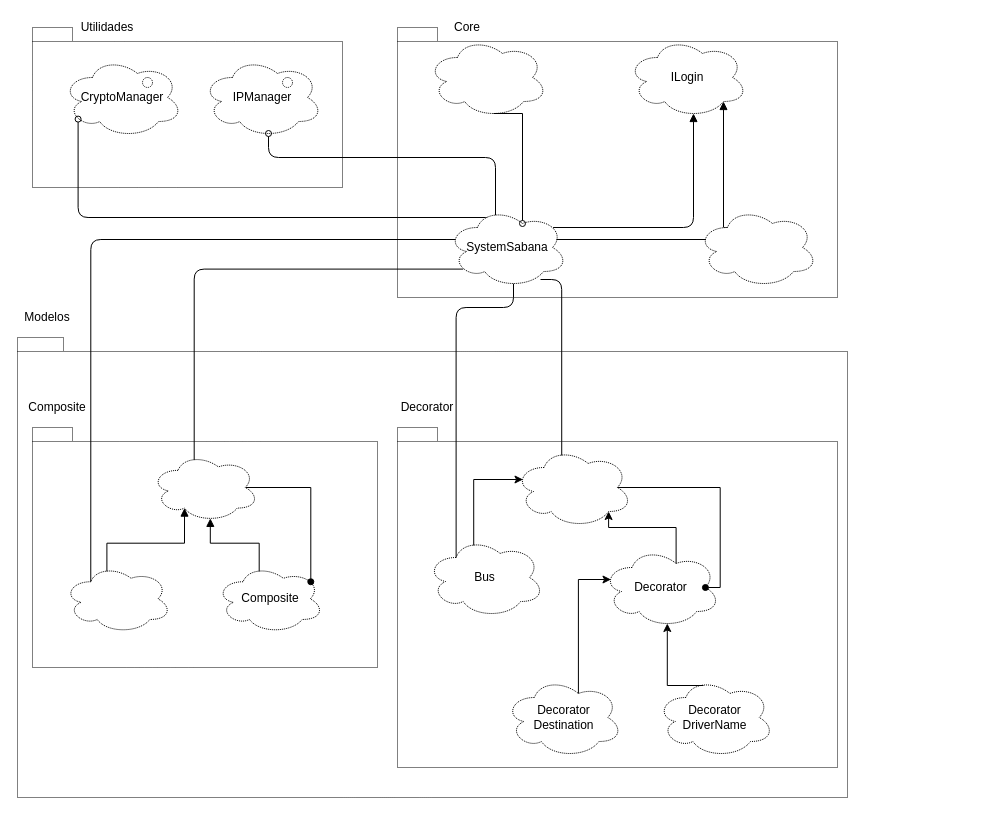
The diagram is 985 pixels wide and 815 high, and some of its shapes have lost their labels. Each missing label, with the centre of its shape:
"Controller" goes at (x=487, y=77).
"Group" goes at (x=204, y=487).
"ProxySystem" goes at (x=757, y=247).
"Sabana Transport" goes at (x=573, y=487).
"User" goes at (x=117, y=598).
